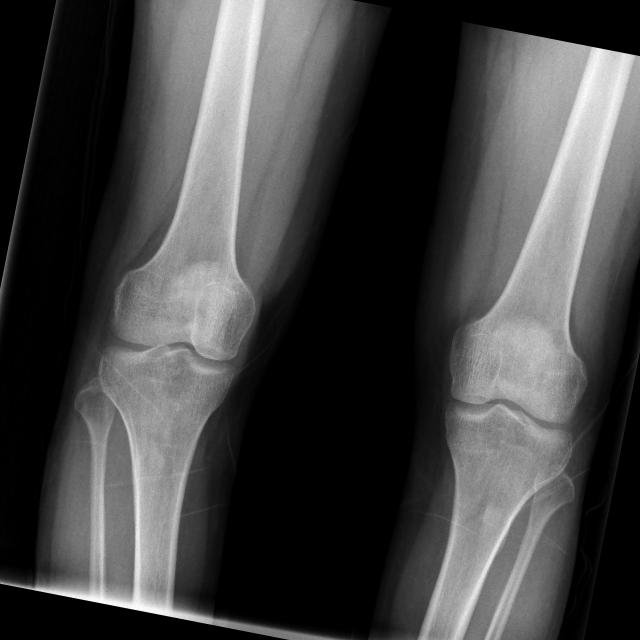Knee: (90, 256, 262, 430), (425, 325, 594, 488)
